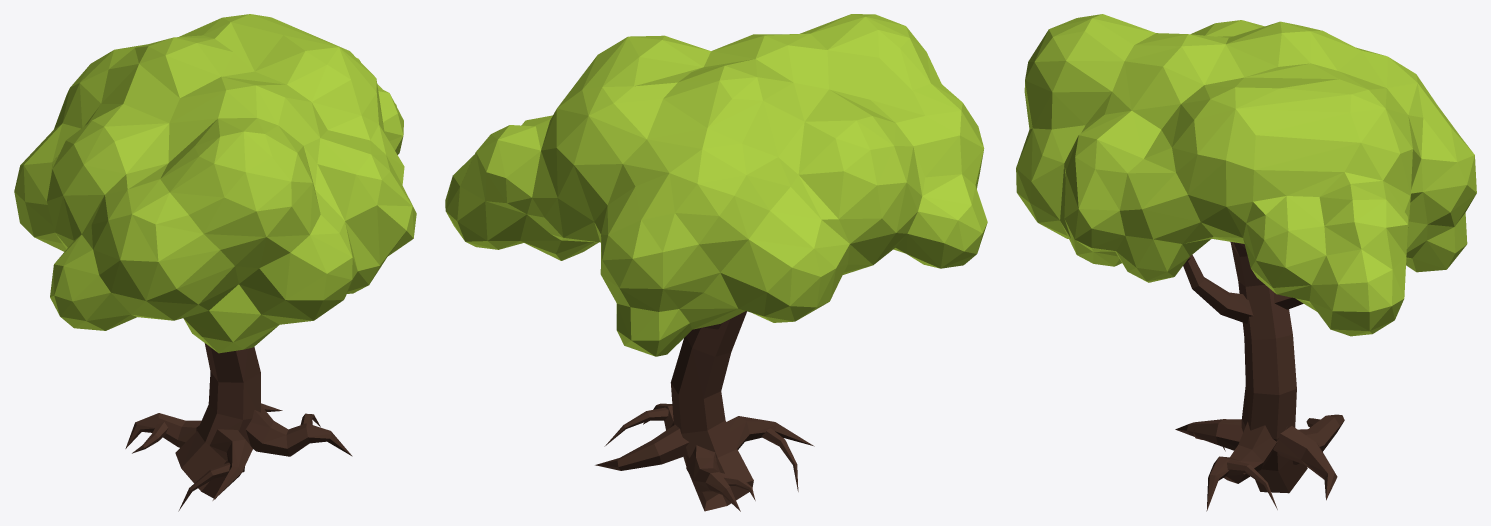
Rendered from tree_live.dae.
The picture shows the model from 3 angles, left to right: view 1: azimuth 30°, elevation 25°; view 2: azimuth 150°, elevation 25°; view 3: azimuth 270°, elevation 25°; orthographic projection.
Visible parts, largest first — view 1: LeavesLP, LiveTree; view 2: LeavesLP, LiveTree; view 3: LeavesLP, LiveTree.
Part boxes in pixels (<box>): LeavesLP: <box>14,14,416,353</box>; LiveTree: <box>125,343,352,511</box>; LeavesLP: <box>445,14,987,356</box>; LiveTree: <box>595,311,814,511</box>; LeavesLP: <box>1016,14,1476,336</box>; LiveTree: <box>1175,241,1344,511</box>.
Bounding box in the file's own units: 4.87 × 4.41 × 4.8.
